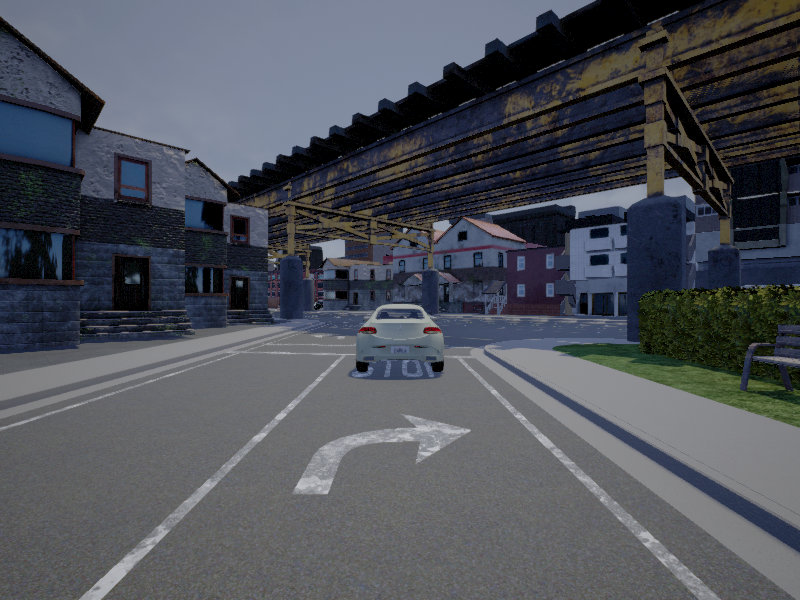Benign: (357, 301, 444, 374)
